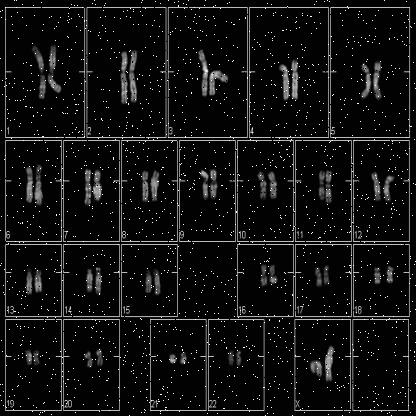1: (47, 41, 67, 102), (28, 41, 46, 103)
10: (254, 169, 268, 204), (268, 168, 281, 204)
11: (326, 166, 336, 208), (316, 166, 326, 206)
12: (384, 168, 398, 208), (368, 170, 382, 206)
13: (23, 264, 35, 298), (36, 264, 44, 300)
14: (94, 264, 103, 298), (85, 264, 93, 296)
15: (142, 264, 154, 300), (153, 264, 164, 302)
16: (269, 258, 280, 290), (258, 258, 268, 290)
17: (323, 263, 335, 292), (312, 263, 324, 291)
18: (385, 262, 397, 290), (372, 262, 382, 290)
19: (21, 344, 34, 372), (34, 343, 43, 374)
2: (129, 45, 141, 107), (118, 46, 128, 107)
20: (80, 344, 96, 372), (95, 346, 108, 373)
21: (166, 350, 180, 368), (180, 350, 193, 368)
22: (224, 346, 236, 370), (236, 346, 246, 372)
3: (209, 64, 231, 104), (196, 44, 208, 103)
4: (290, 57, 303, 104), (278, 58, 290, 102)
5: (371, 60, 385, 104), (360, 60, 371, 104)
6: (34, 162, 46, 207), (23, 162, 34, 206)
7: (93, 164, 105, 211), (82, 164, 94, 210)
8: (150, 166, 162, 206), (138, 166, 150, 205)
9: (197, 167, 210, 203), (210, 167, 221, 202)
X: (324, 342, 338, 380), (308, 356, 324, 378)
